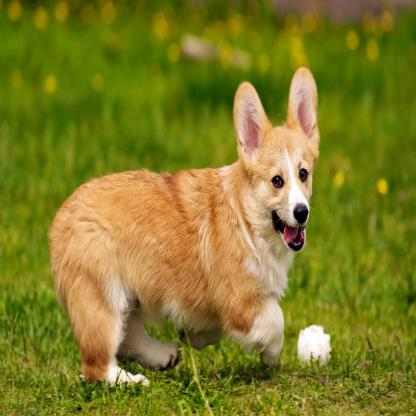Korgi: (45, 67, 322, 385)
